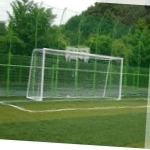goals: (26, 45, 126, 105)
